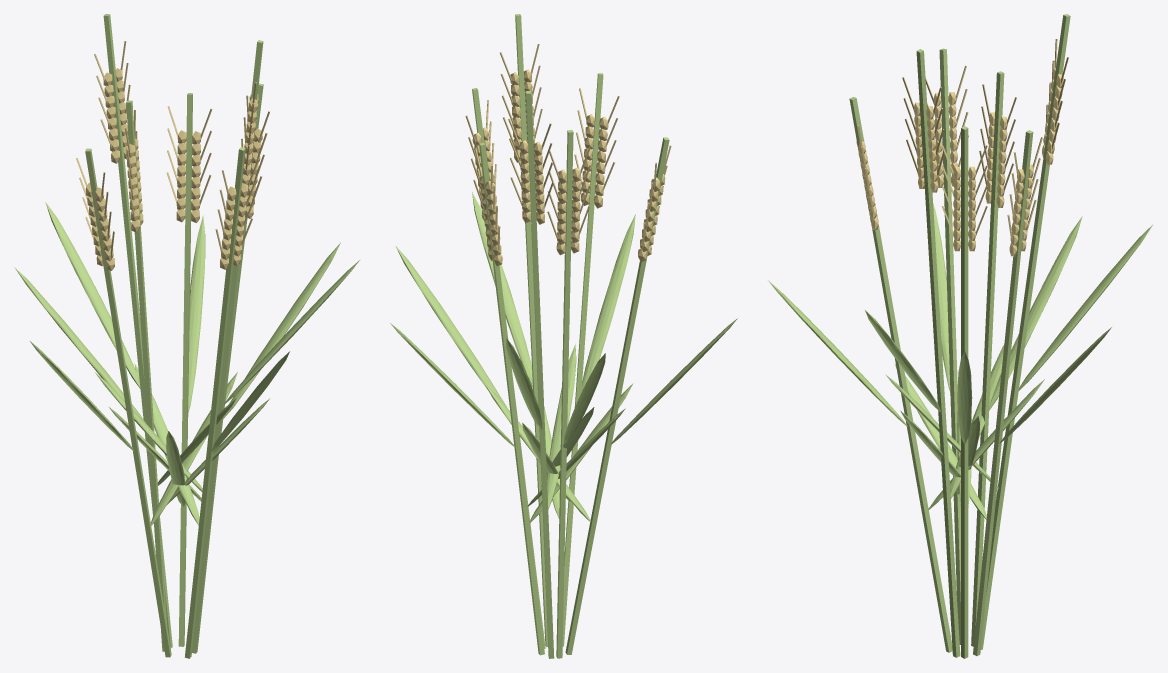
Rendered from trigo.glb.
3 views of the same model, side by side, from view 1: azimuth 30°, elevation 25°; view 2: azimuth 150°, elevation 25°; view 3: azimuth 270°, elevation 25° (orthographic). The views are drawn at different scales.
Visible parts, largest first — view 1: verde_claro, paja; view 2: verde_claro, paja; view 3: verde_claro, paja.
Part boxes in pixels (box(x1,y1,x2,y2)): verde_claro: box(14, 14, 360, 658); paja: box(76, 41, 269, 270); verde_claro: box(390, 14, 737, 658); paja: box(465, 44, 671, 266); verde_claro: box(768, 14, 1152, 658); paja: box(856, 39, 1068, 256).
Size of the model in its own units: 0.5225 by 0.9289 by 0.5161.
